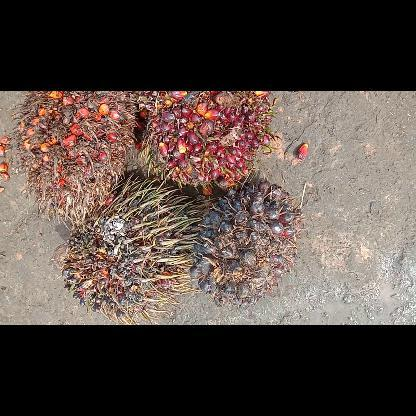TBS abnormal: (51, 176, 197, 324)
TBS masak: (144, 91, 274, 183)
TBS mentah: (192, 182, 300, 309)
Terlalu masak: (14, 90, 138, 228)
